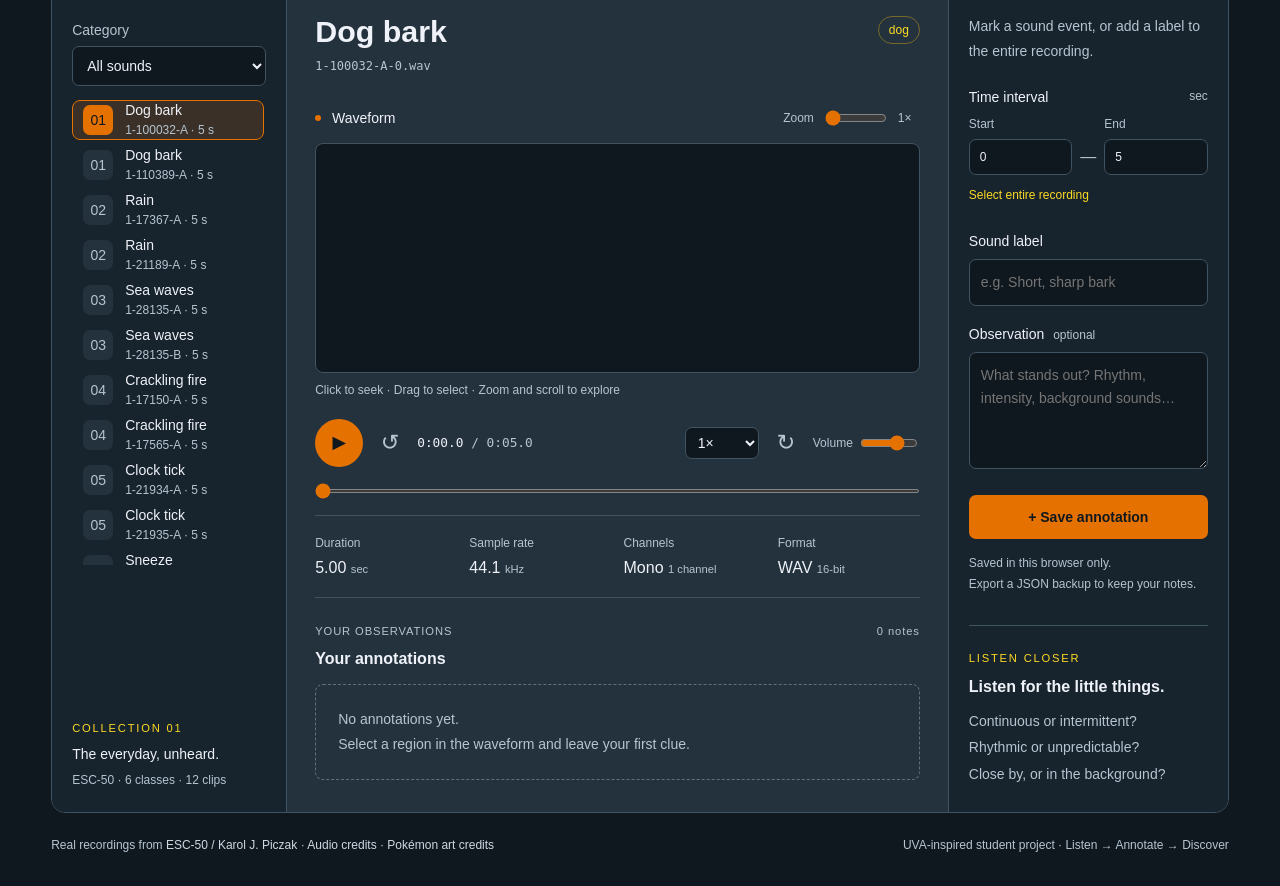
Scenario: React audio viewer › loads real metadata, filters clips, and keeps playback speed when selecting a new clip
The width and height of the screenshot is (1280, 886).
(page scrolled)
Expected: the button named "Play" is enabled, [315, 419, 363, 467]
Expected: the heading "Dog bark" is shown, [315, 14, 461, 49]
Select "1.5×" in the dropdown named "Playback speed". click: (722, 443)
box: [685, 427, 759, 459]
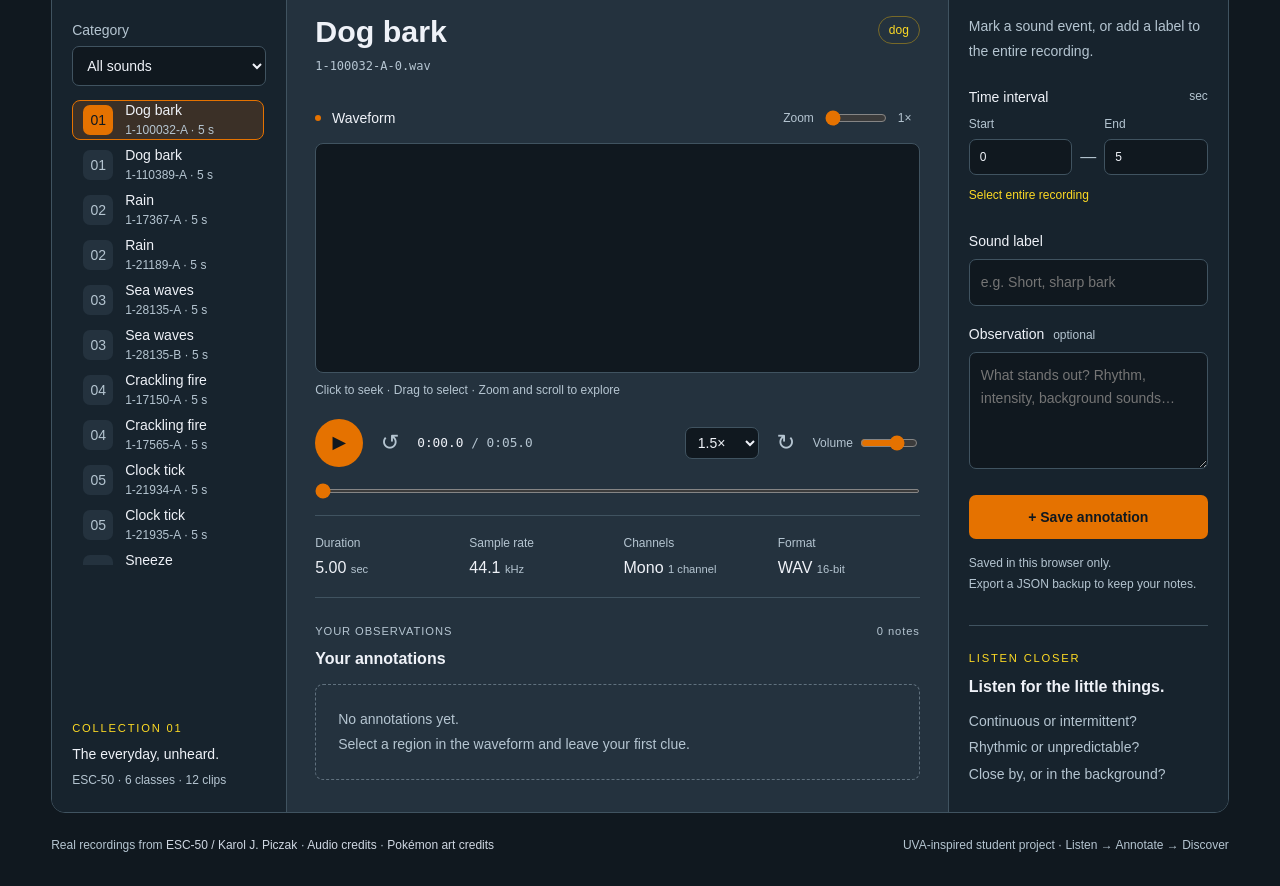
Select "Rain" in the dropdown labelled "Category". click: (169, 66)
box: [72, 46, 266, 86]
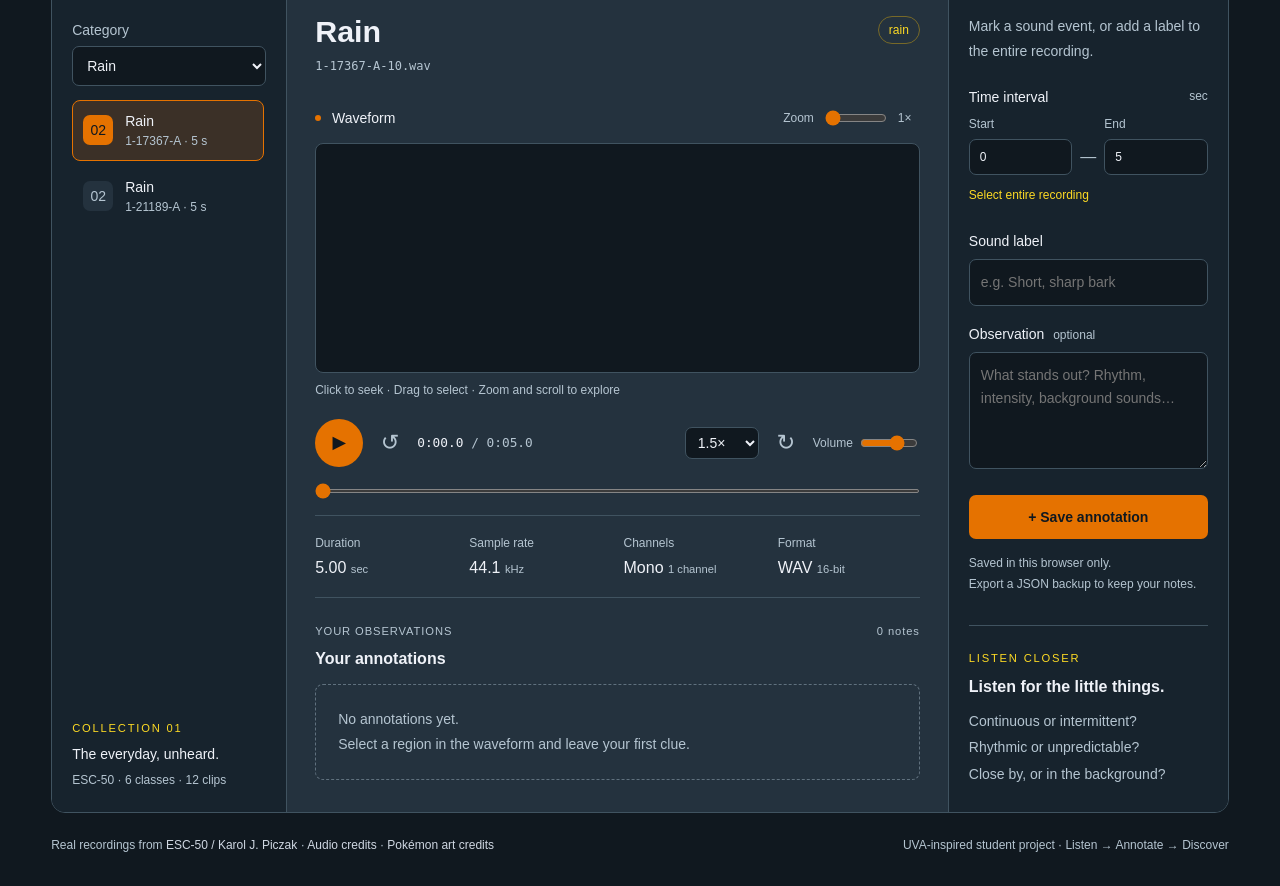
Expected: the button named "Play" is enabled, [315, 419, 363, 467]
Expected: the heading "Rain" is shown, [315, 14, 381, 48]
